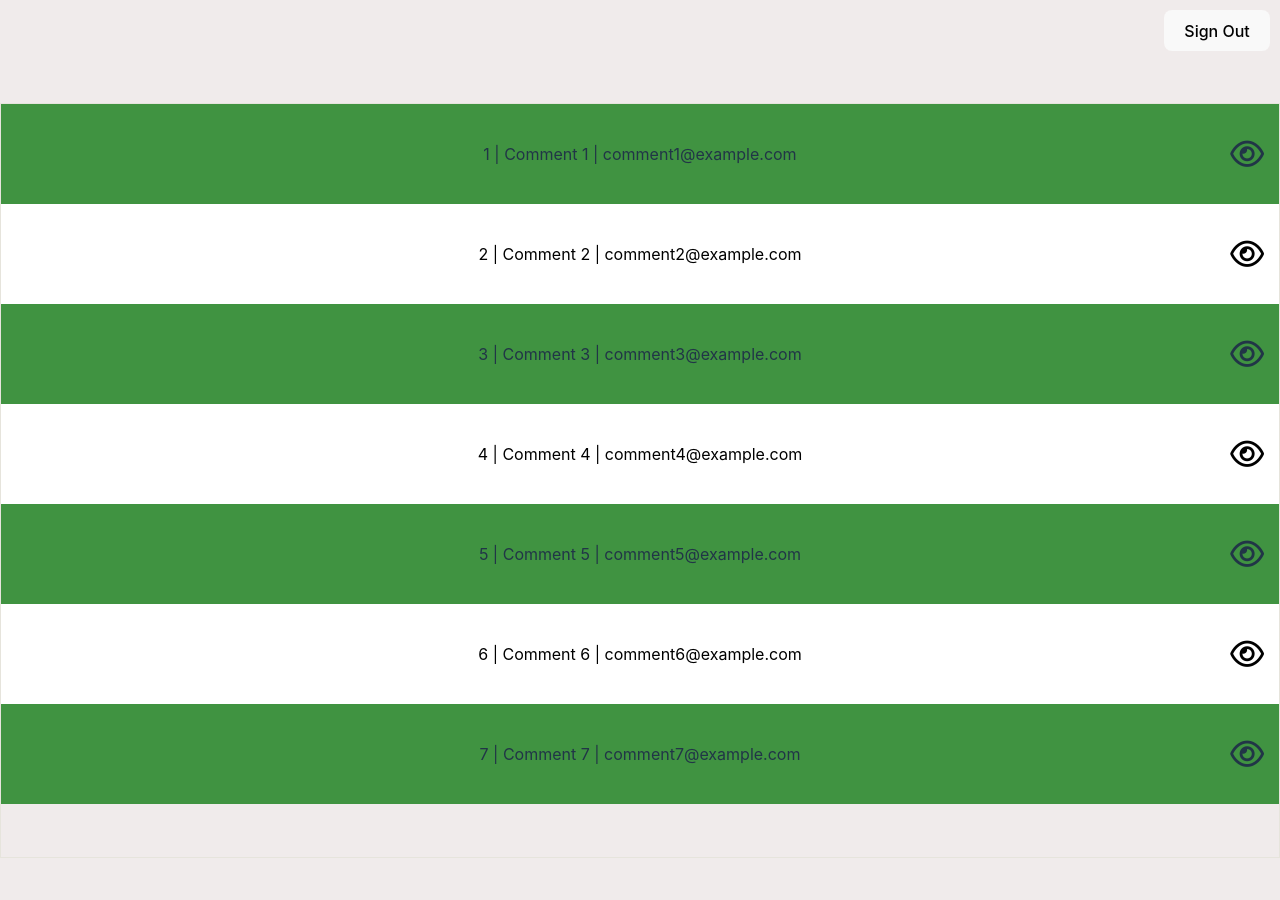
it: DashboardPage › closes the modal when the close button is clicked
The image size is (1280, 900).
Click the text "1 | Comment 1 | comment1@example.com" at (640, 154), box [483,142,797,166]
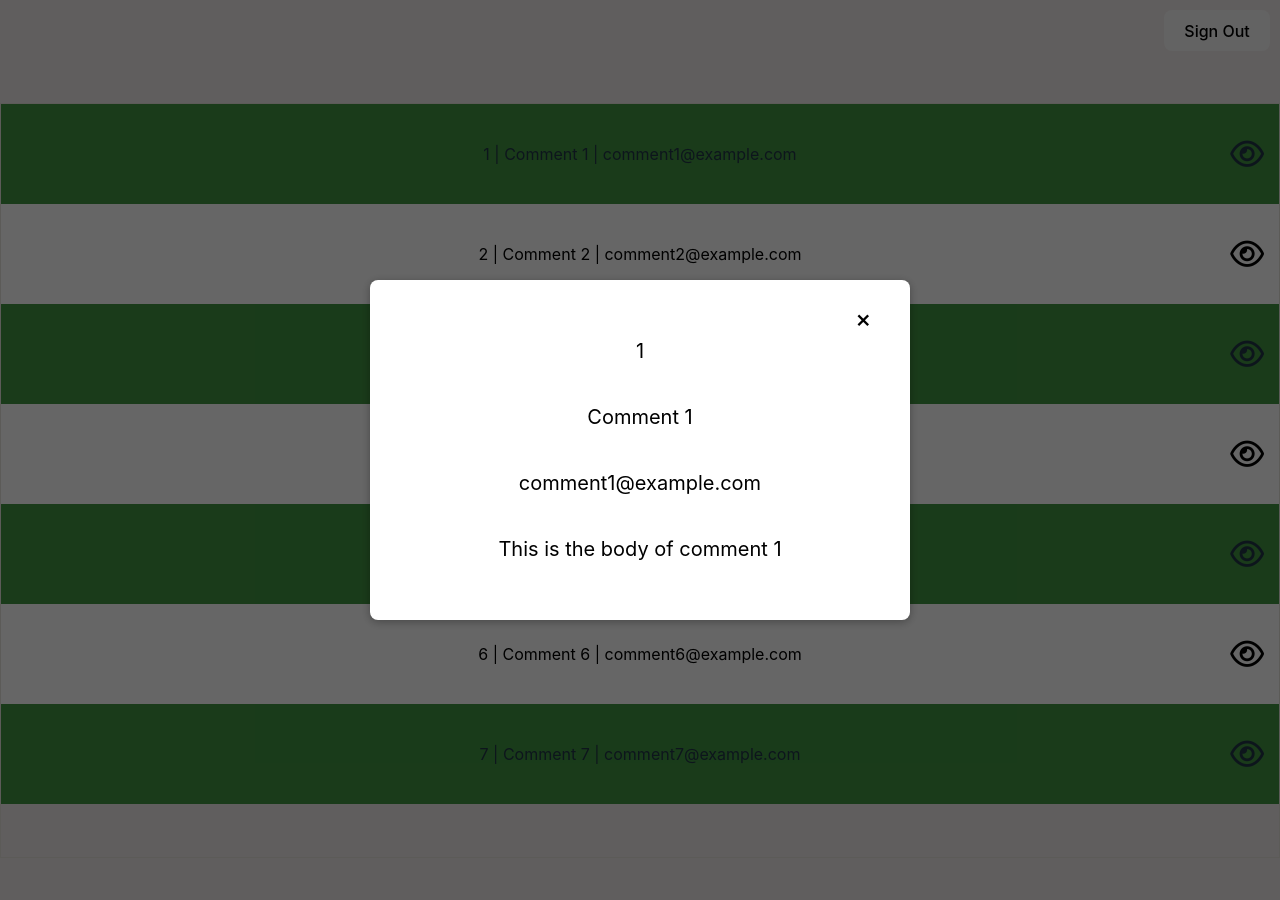
Check: the text "This is the body of comment 1" is shown, box [498,537,782,561]
Click the button named "close" at (863, 319), box [826,290,900,348]
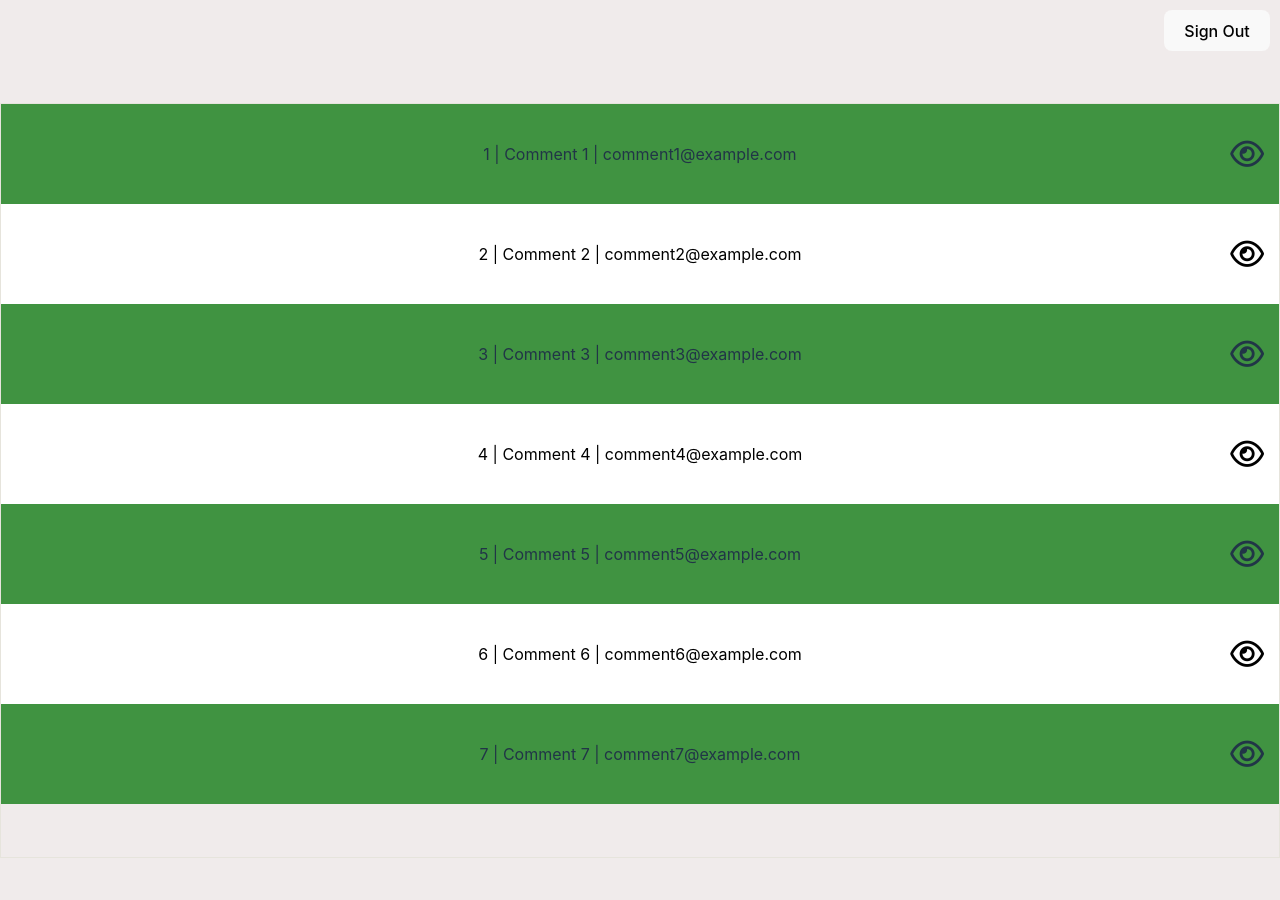
Check: the text "This is the body of comment 1" is gone
